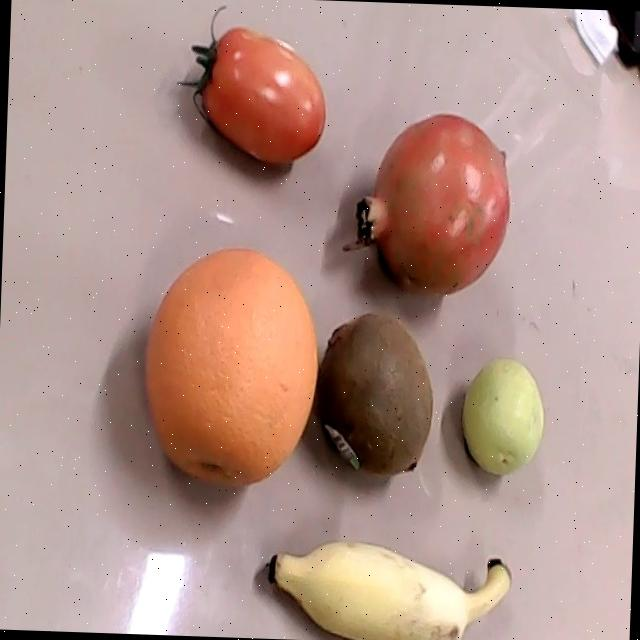kiwi: (314, 311, 433, 478)
lemon: (460, 357, 544, 477)
orange: (145, 248, 317, 487)
pomegranate: (343, 114, 510, 295)
tomato: (177, 6, 326, 166)
